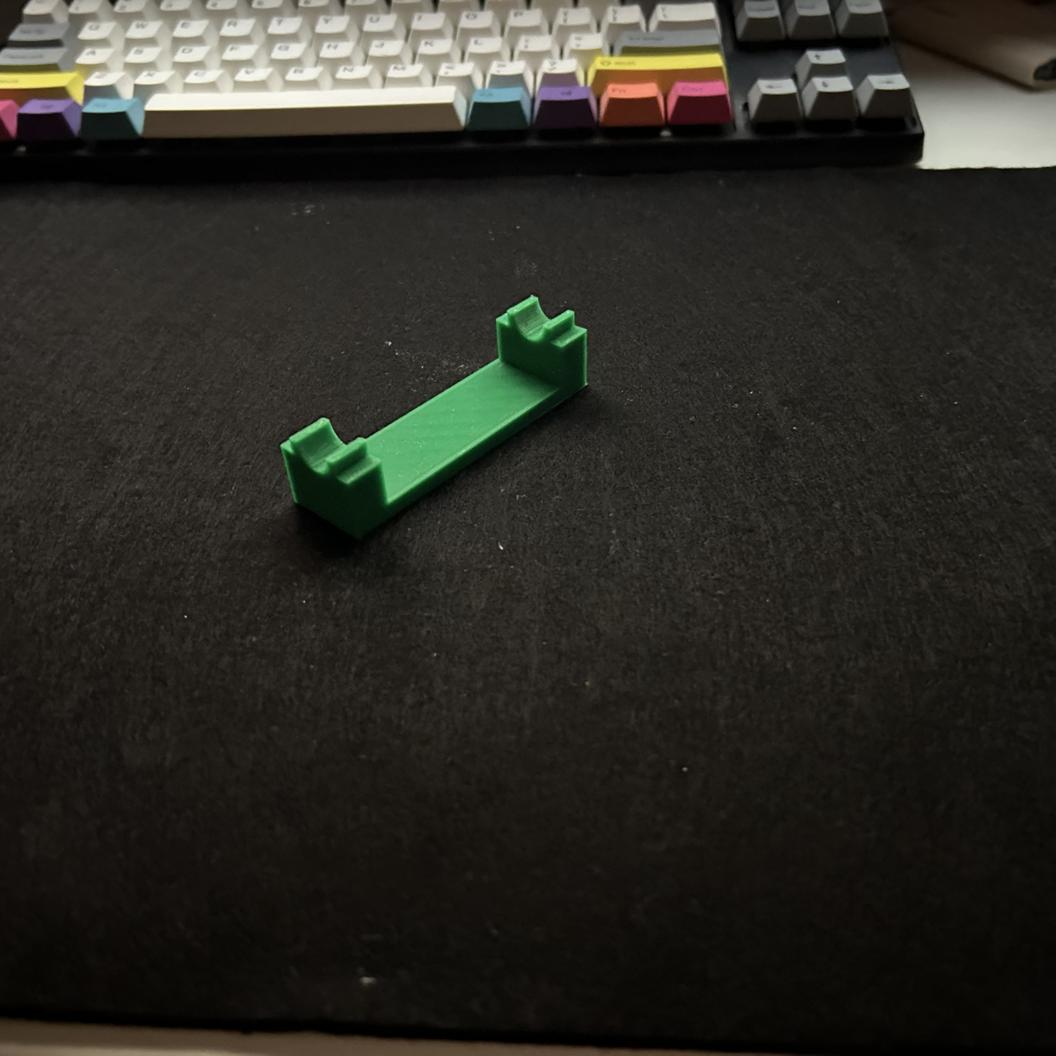holder: (279, 294, 590, 540)
